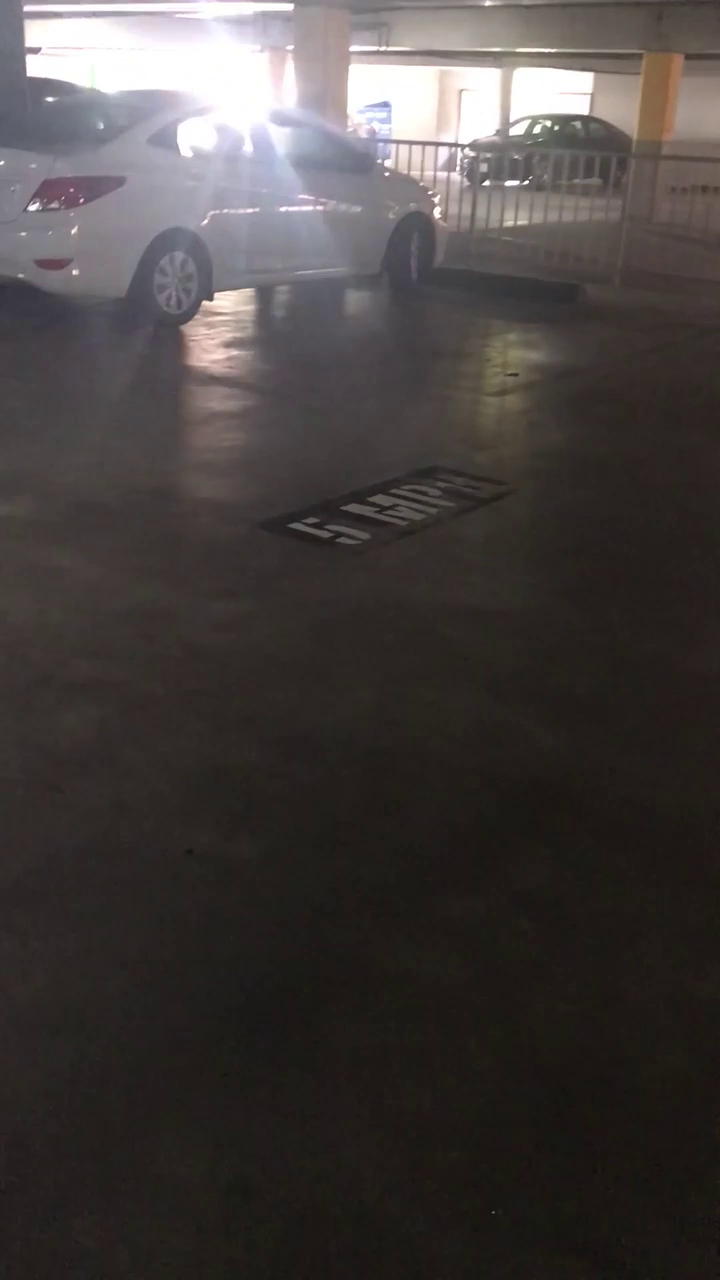car: (1, 37, 442, 334)
